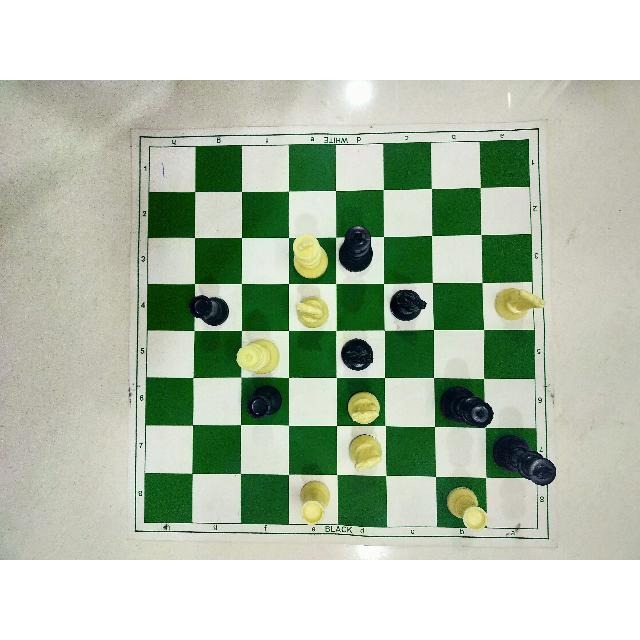black-king: (490, 431, 560, 487), (336, 224, 375, 274)
black-knight: (390, 286, 426, 325), (339, 336, 374, 372)
black-queen: (435, 383, 494, 430)
black-rook: (244, 384, 286, 420), (187, 294, 231, 326)
white-king: (290, 234, 332, 282)
white-knight: (490, 281, 546, 325), (344, 386, 385, 428), (346, 433, 386, 475), (290, 295, 331, 332)
white-queen: (233, 337, 281, 377)
white-rook: (444, 481, 490, 531), (294, 477, 332, 526)
